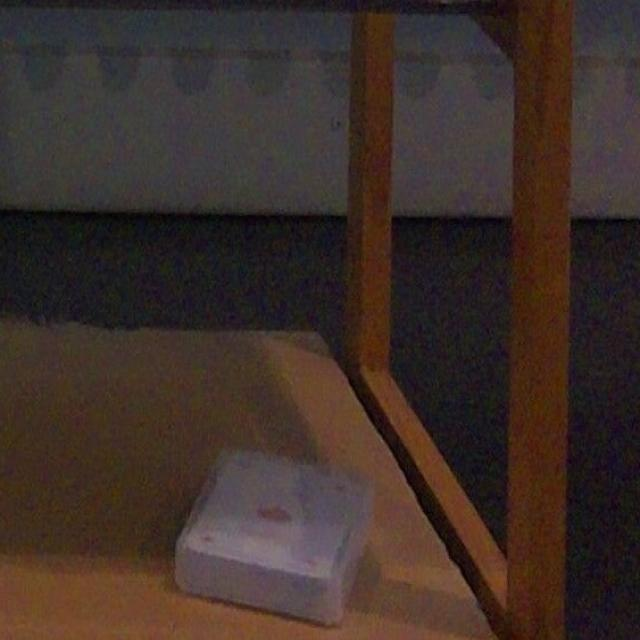Jasskarte: (175, 450, 372, 624)
